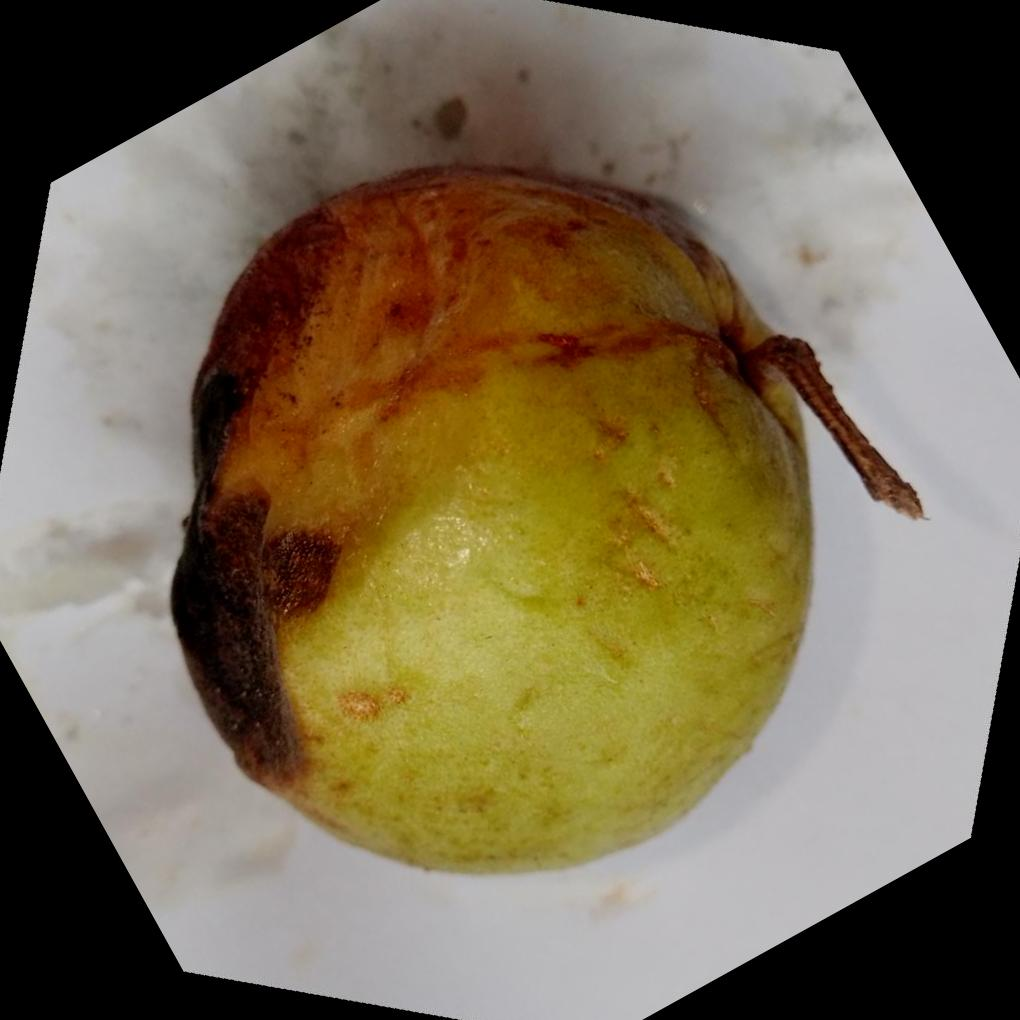FreshOrange: (166, 159, 889, 874)
